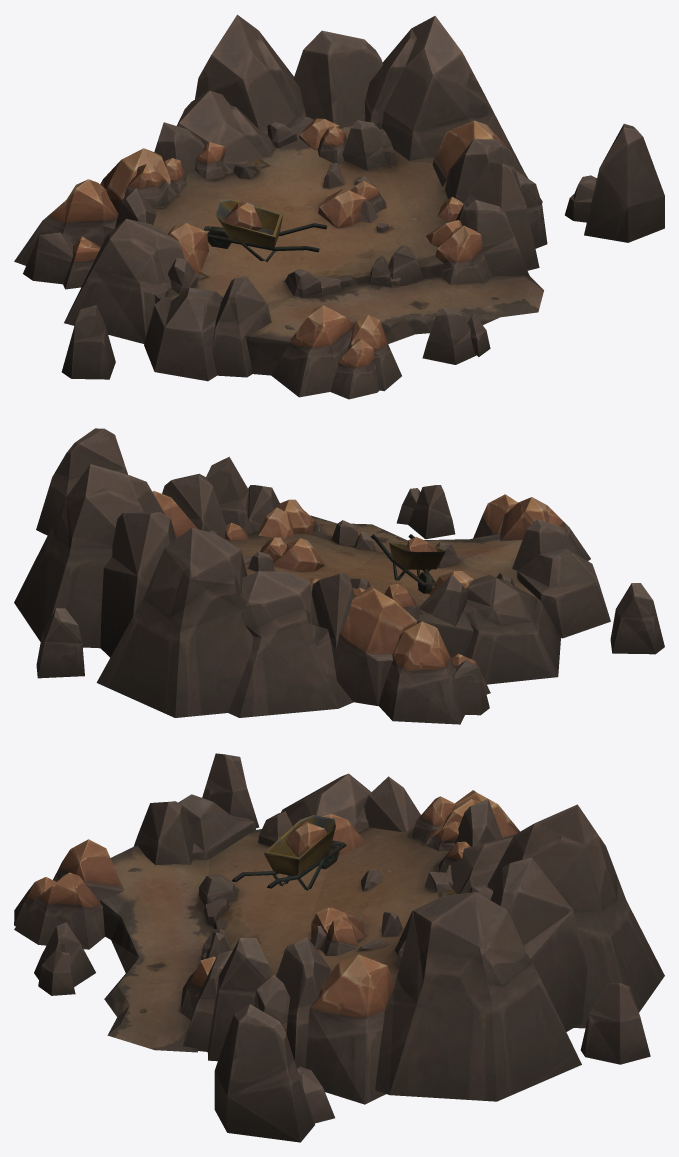
File: WMCopper2.FBX
3 renders of one model, top to bottom at view 1: azimuth 30°, elevation 25°; view 2: azimuth 150°, elevation 25°; view 3: azimuth 270°, elevation 25°, orthographic. The views are drawn at different scales.
Parts seen in each view (by area): view 1: WMCopper2; view 2: WMCopper2; view 3: WMCopper2.
Part boxes in pixels (left/top/right/bottom): WMCopper2: left=14, top=14, right=664, bottom=399; WMCopper2: left=14, top=428, right=664, bottom=724; WMCopper2: left=14, top=753, right=664, bottom=1142.
Size of the model in its own units: 1.84 by 0.4797 by 1.52.
Materials: 1 (1 with a texture image).
